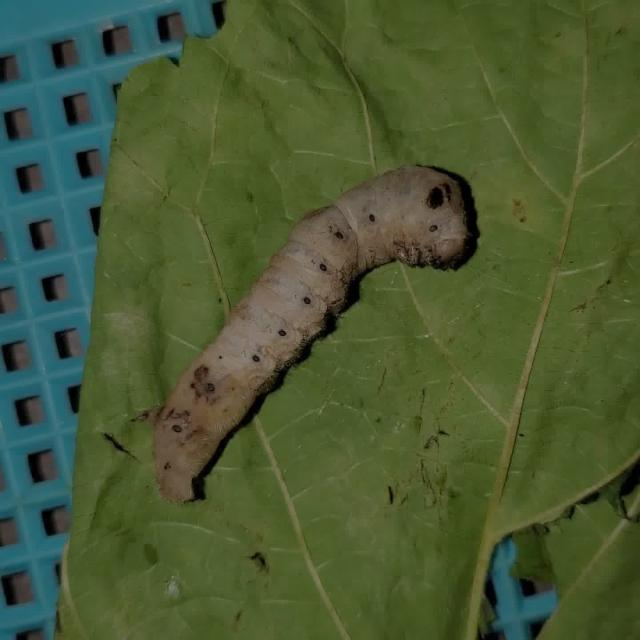Grasserie: (128, 110, 497, 542)
